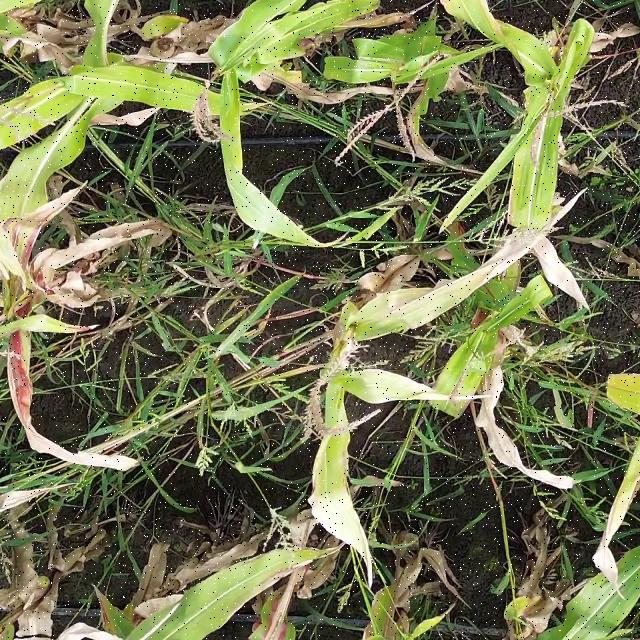northern-leaf-blight: (337, 263, 491, 353), (209, 543, 318, 611)
